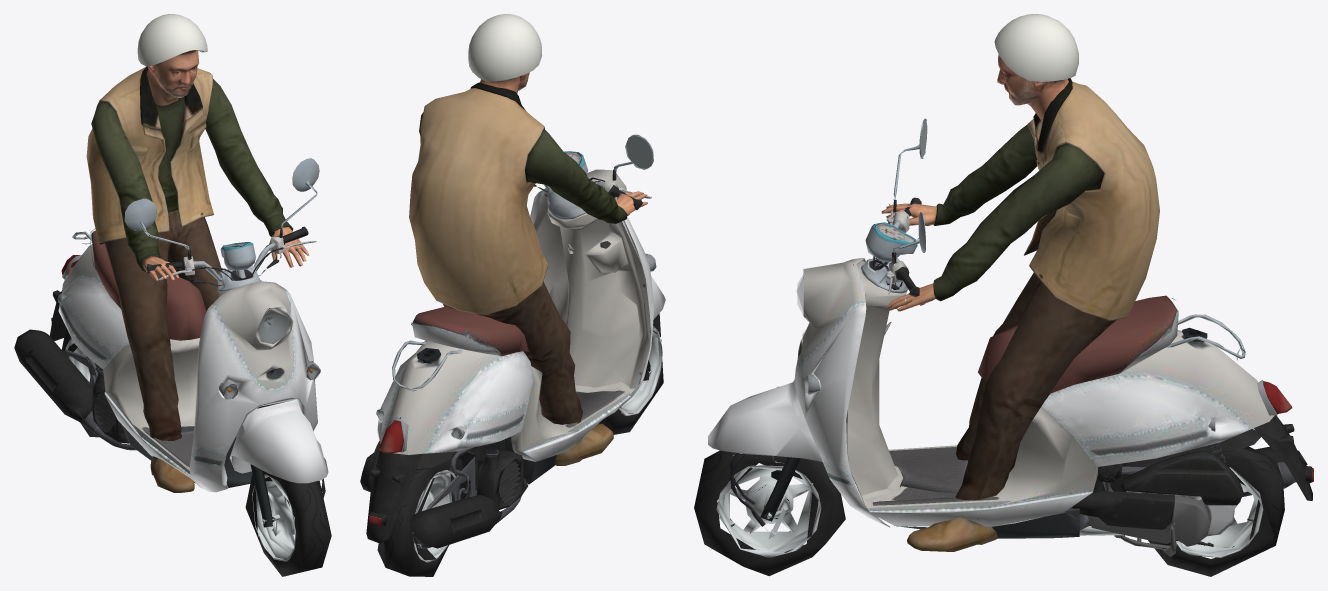
The model's file is scooter_rider.glb.
3 views of the same model, side by side, from view 1: azimuth 30°, elevation 25°; view 2: azimuth 150°, elevation 25°; view 3: azimuth 270°, elevation 25° (orthographic). The views are drawn at different scales.
Parts seen in each view (by area): view 1: paint, rider, parts, wheel, helmet, lights, glass; view 2: paint, rider, parts, wheel, helmet, lights; view 3: paint, rider, parts, wheel, helmet, lights.
Boxes of the visible parts, left/top/right/bottom form: paint: left=58, top=228, right=328, bottom=527; rider: left=86, top=50, right=308, bottom=492; parts: left=14, top=158, right=325, bottom=523; wheel: left=61, top=327, right=331, bottom=576; helmet: left=137, top=14, right=207, bottom=66; lights: left=52, top=255, right=320, bottom=399; glass: left=223, top=242, right=319, bottom=398; paint: left=377, top=169, right=665, bottom=484; rider: left=409, top=72, right=647, bottom=465; parts: left=360, top=134, right=653, bottom=549; wheel: left=377, top=313, right=663, bottom=576; helmet: left=468, top=14, right=542, bottom=81; lights: left=369, top=253, right=656, bottom=525; paint: left=708, top=257, right=1274, bottom=538; rider: left=881, top=54, right=1159, bottom=551; parts: left=730, top=118, right=1312, bottom=556; wheel: left=694, top=446, right=1284, bottom=576; helmet: left=994, top=14, right=1078, bottom=81; lights: left=805, top=316, right=1313, bottom=481.
Size of the model in its own units: 0.7475 by 1.75 by 1.77.
7 materials, 6 textured.
